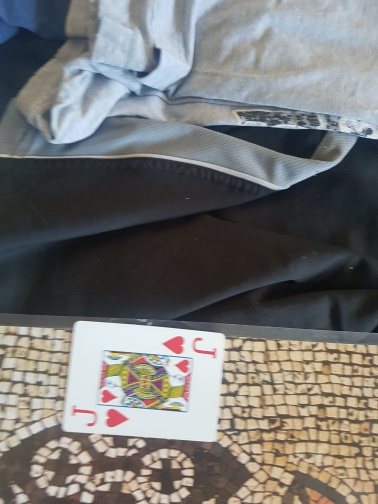jack: (63, 320, 225, 443)
